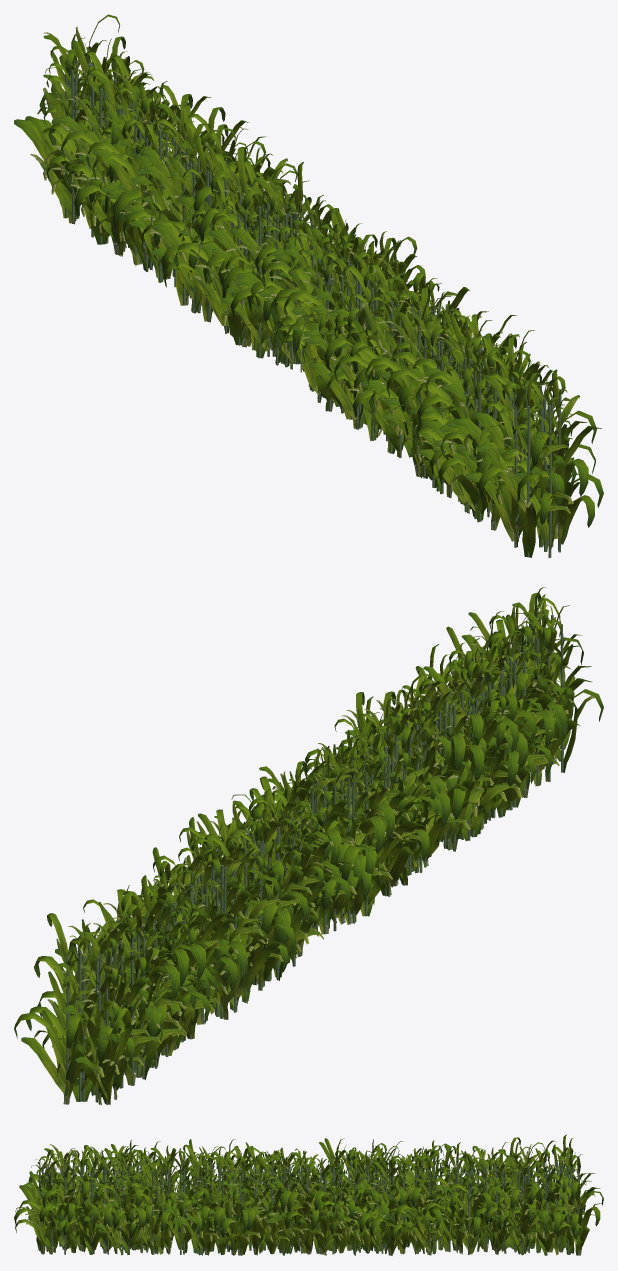
The model's file is milharal1x50_denso8.fbx.
The picture shows the model from 3 angles, top to bottom: view 1: azimuth 30°, elevation 25°; view 2: azimuth 150°, elevation 25°; view 3: azimuth 270°, elevation 25°; orthographic projection. The views are drawn at different scales.
Visible parts, largest first — view 1: Plantacao2; view 2: Plantacao2; view 3: Plantacao2.
Boxes of the visible parts, <box> form: Plantacao2: <box>14,14,603,558</box>; Plantacao2: <box>14,587,603,1105</box>; Plantacao2: <box>14,1134,603,1255</box>.
Bounding box in the file's own units: 783 × 1102 × 5462.
